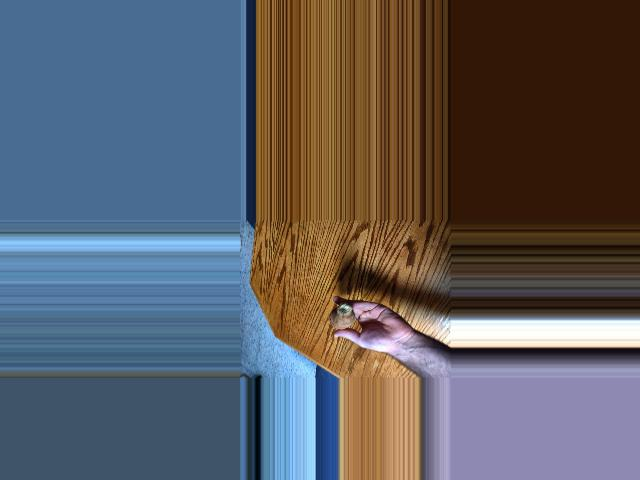sweet_potato: (327, 305, 354, 330)
